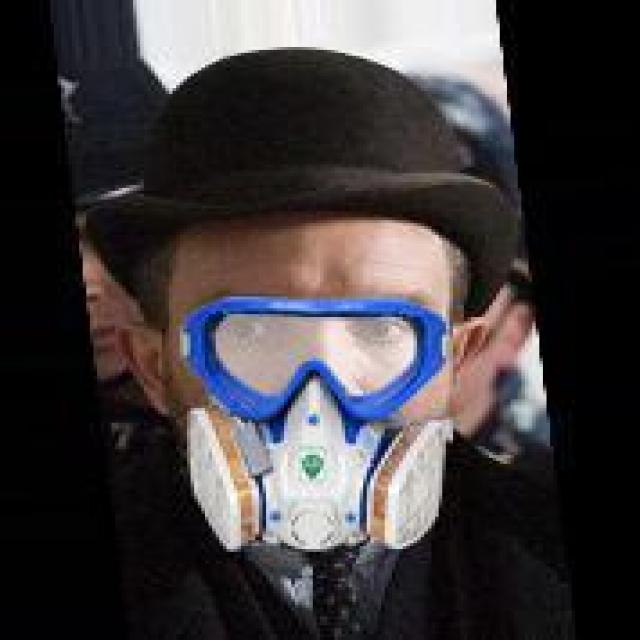mask: (94, 61, 572, 572)
